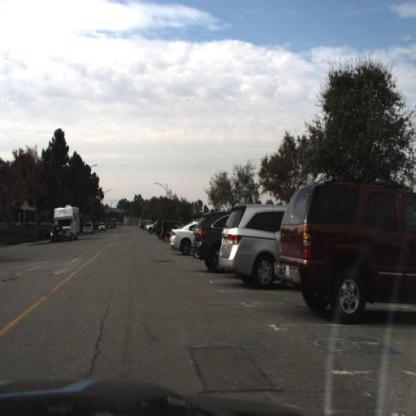car: (279, 185, 416, 318), (221, 206, 285, 289), (195, 212, 223, 272), (171, 221, 195, 256), (49, 223, 67, 246), (159, 217, 173, 246), (82, 221, 97, 238)
truck: (55, 204, 81, 239)
